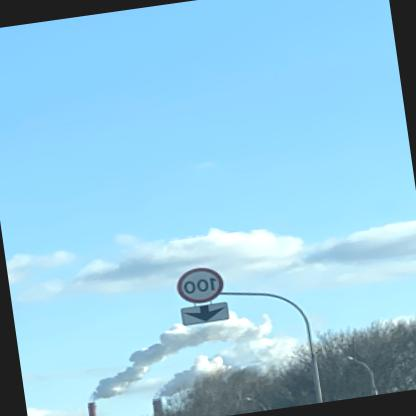speedlimit: (176, 262, 226, 304)
